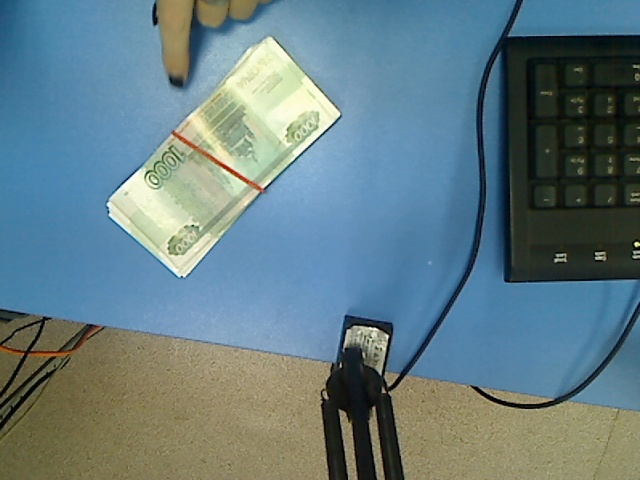banknotes: (103, 34, 343, 280)
